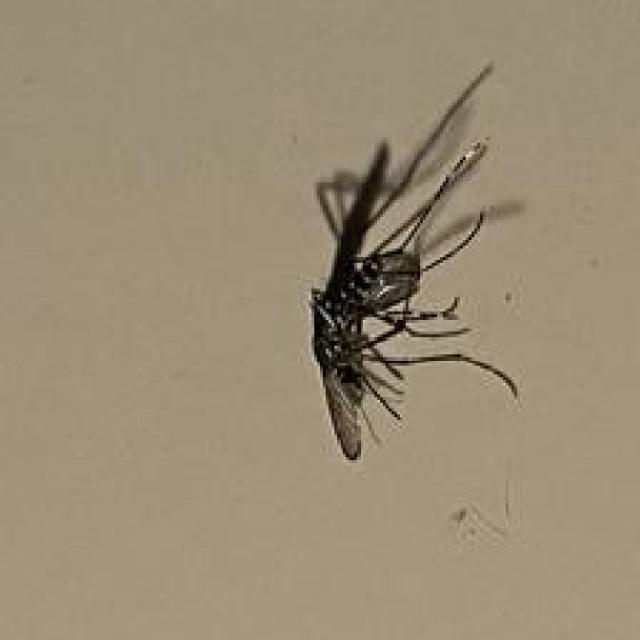Aedes albopictus: (304, 61, 522, 462)
